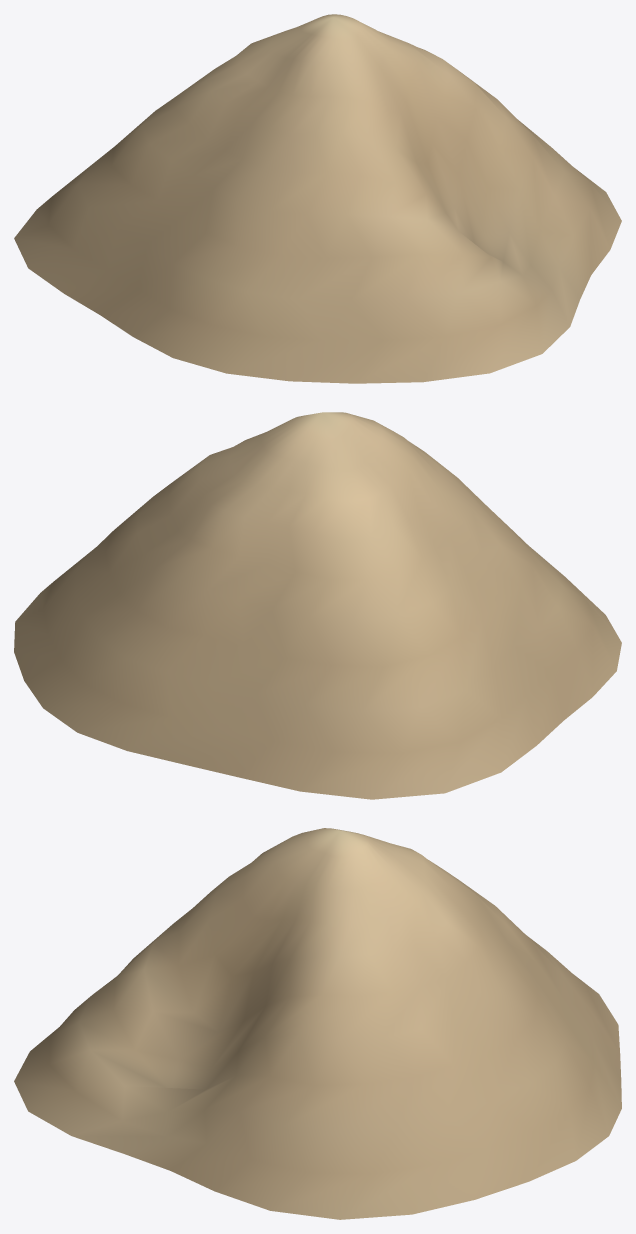
File: SandPile.fbx
3 renders of one model, top to bottom at view 1: azimuth 30°, elevation 25°; view 2: azimuth 150°, elevation 25°; view 3: azimuth 270°, elevation 25°, orthographic. The views are drawn at different scales.
Visible parts, largest first — view 1: SandPile; view 2: SandPile; view 3: SandPile.
Part boxes in pixels (bbox=[...]): SandPile: bbox=[14, 14, 621, 383]; SandPile: bbox=[14, 412, 621, 799]; SandPile: bbox=[14, 828, 621, 1219].
Size of the model in its own units: 2.02 by 0.9111 by 2.
